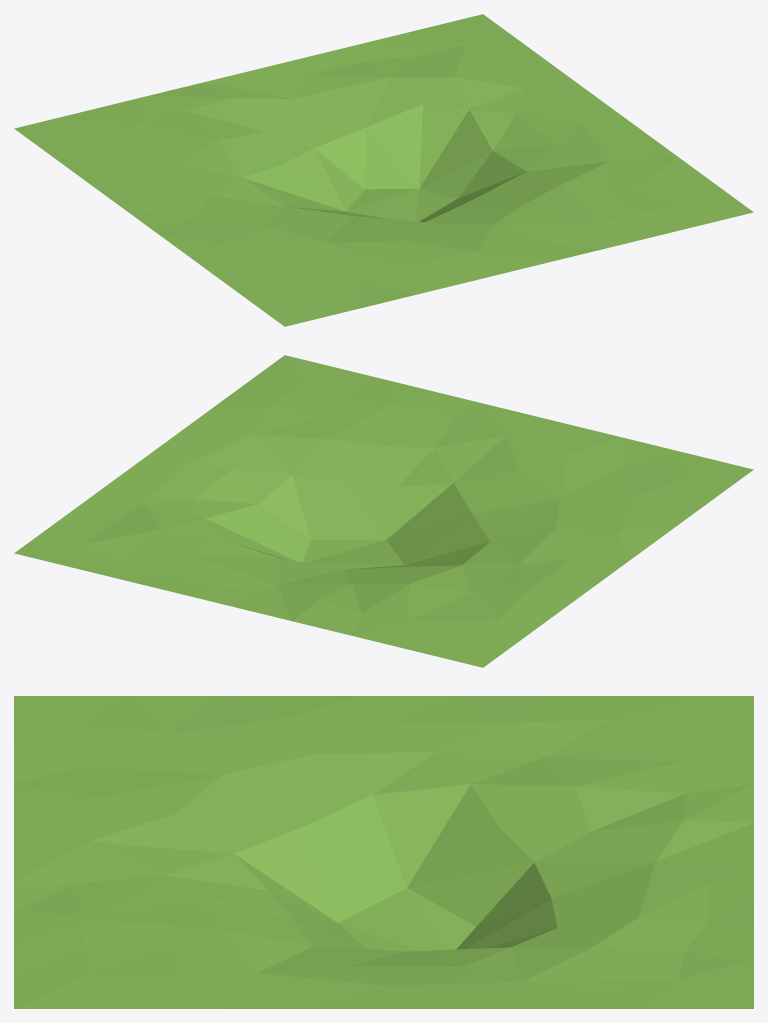
Rendered from MT_Terrain_S_b_08_LOD.fbx.
The picture shows the model from 3 angles, top to bottom: view 1: azimuth 30°, elevation 25°; view 2: azimuth 150°, elevation 25°; view 3: azimuth 270°, elevation 25°; orthographic projection. The views are drawn at different scales.
Visible parts, largest first — view 1: MT_Terrain_S_b_08_LOD0; view 2: MT_Terrain_S_b_08_LOD0; view 3: MT_Terrain_S_b_08_LOD0.
Boxes of the visible parts, box(x1,y1,x2,y2) form: MT_Terrain_S_b_08_LOD0: box(14, 14, 753, 326); MT_Terrain_S_b_08_LOD0: box(14, 355, 753, 667); MT_Terrain_S_b_08_LOD0: box(14, 696, 753, 1008).
Size of what is drawn, in the model's own units: 2500 by 264 by 2500.
